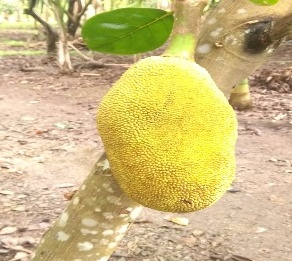Mit: (98, 57, 239, 212)
